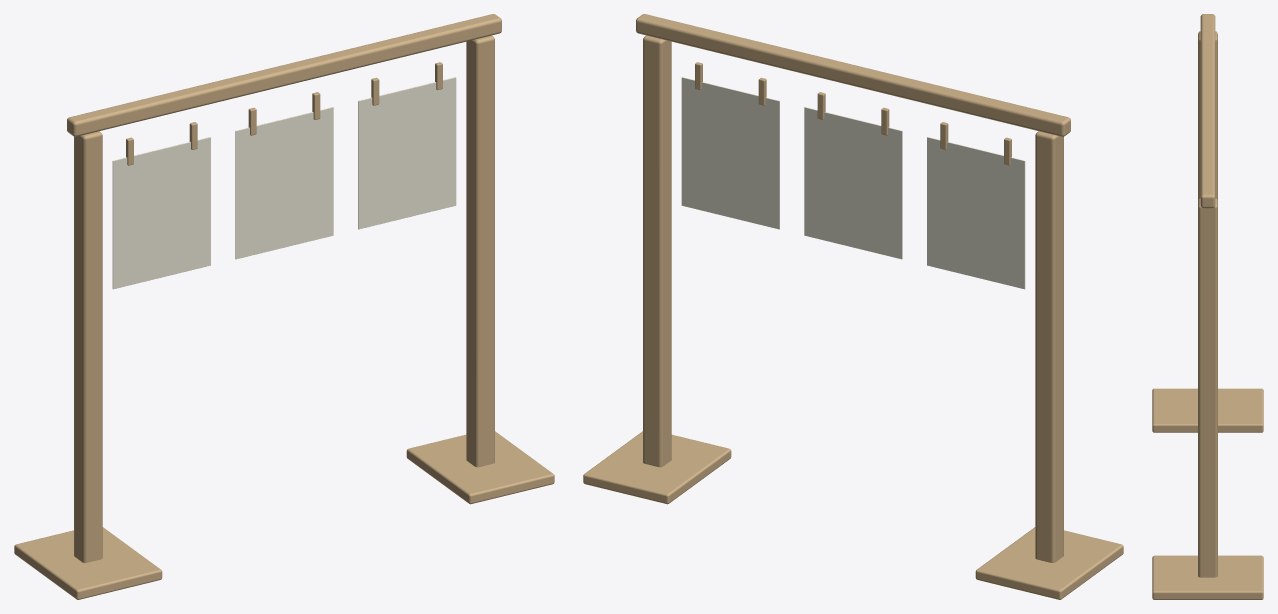
Rendered from bookbinding-and-paper-mill-hanging-paper-rail-1f577073__30553.glb.
The picture shows the model from 3 angles, left to right: view 1: azimuth 30°, elevation 25°; view 2: azimuth 150°, elevation 25°; view 3: azimuth 270°, elevation 25°; orthographic projection. The views are drawn at different scales.
Parts seen in each view (by area): view 1: hanging-paper-rail; view 2: hanging-paper-rail; view 3: hanging-paper-rail.
Part boxes in pixels (x1,y1,x2,y2): hanging-paper-rail: (14,14,554,599); hanging-paper-rail: (583,14,1123,599); hanging-paper-rail: (1152,14,1263,599).
Bounding box in the file's own units: 1.95 × 1.76 × 0.4499.
